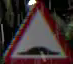Speed Breaker ahead: (4, 2, 72, 63)
